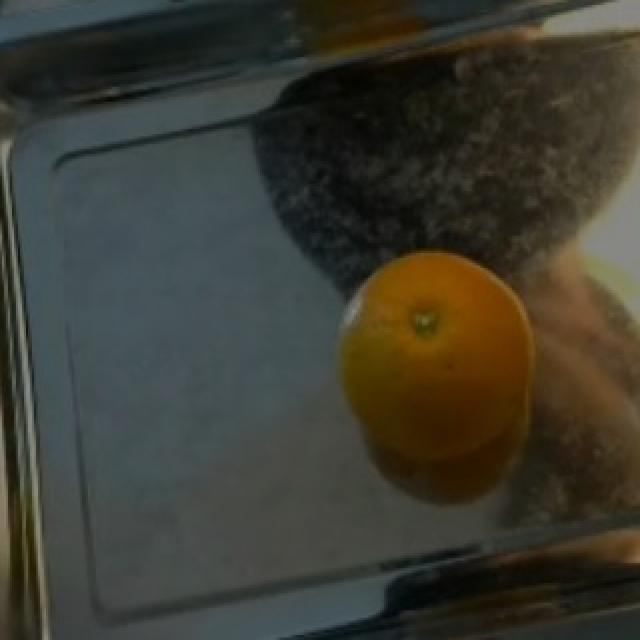Fruit: (316, 223, 562, 506), (434, 0, 640, 60)
